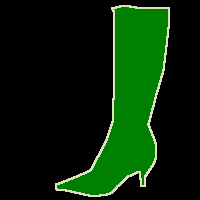shoe: (56, 5, 169, 196)
